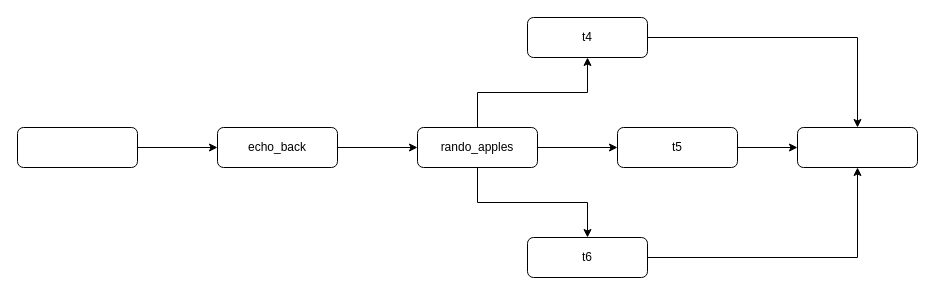
The diagram is 935 pixels wide and 295 high, and some of its shapes have lost their labels. The shapes that lost their labels are listed below. From the top down, each one's centre as x and y in pixels, then its label:
At [77,147]: "Say_my_name".
At [857,147]: "THE END".
